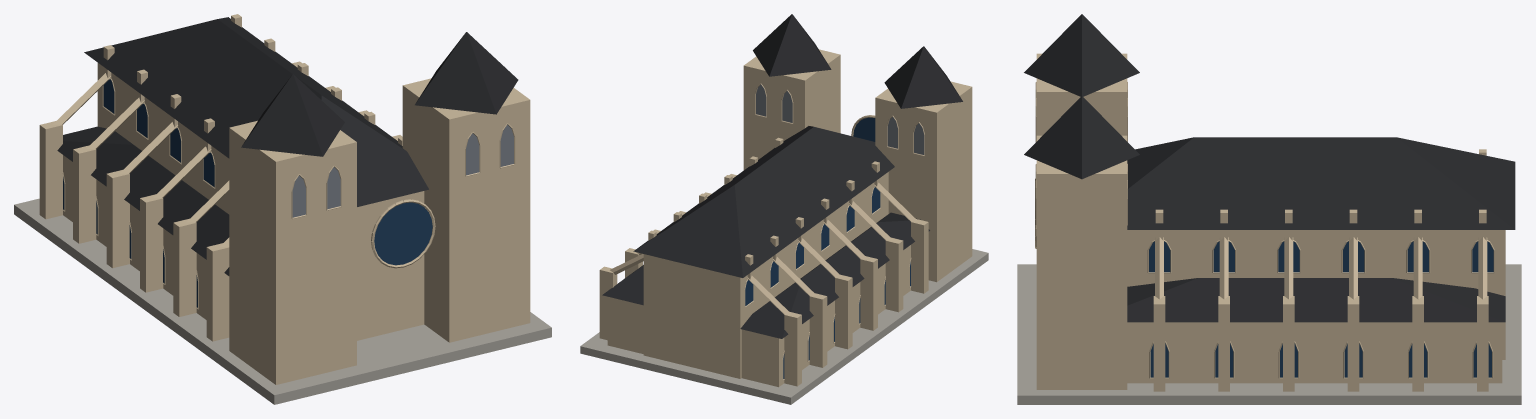
Rendered from top-prebuilt.fbx.
3 views of the same model, side by side, from view 1: azimuth 30°, elevation 25°; view 2: azimuth 150°, elevation 25°; view 3: azimuth 270°, elevation 25° (orthographic). The views are drawn at different scales.
Parts seen in each view (by area): view 1: landmark-grand_cathedral/0/top-prebuilt; view 2: landmark-grand_cathedral/0/top-prebuilt; view 3: landmark-grand_cathedral/0/top-prebuilt.
Boxes of the visible parts, x1,y1,x2,y2 form: landmark-grand_cathedral/0/top-prebuilt: (14,14,551,404); landmark-grand_cathedral/0/top-prebuilt: (580,14,988,404); landmark-grand_cathedral/0/top-prebuilt: (1017,14,1521,404).
Bounding box in the file's own units: 48 × 48.5 × 78.
